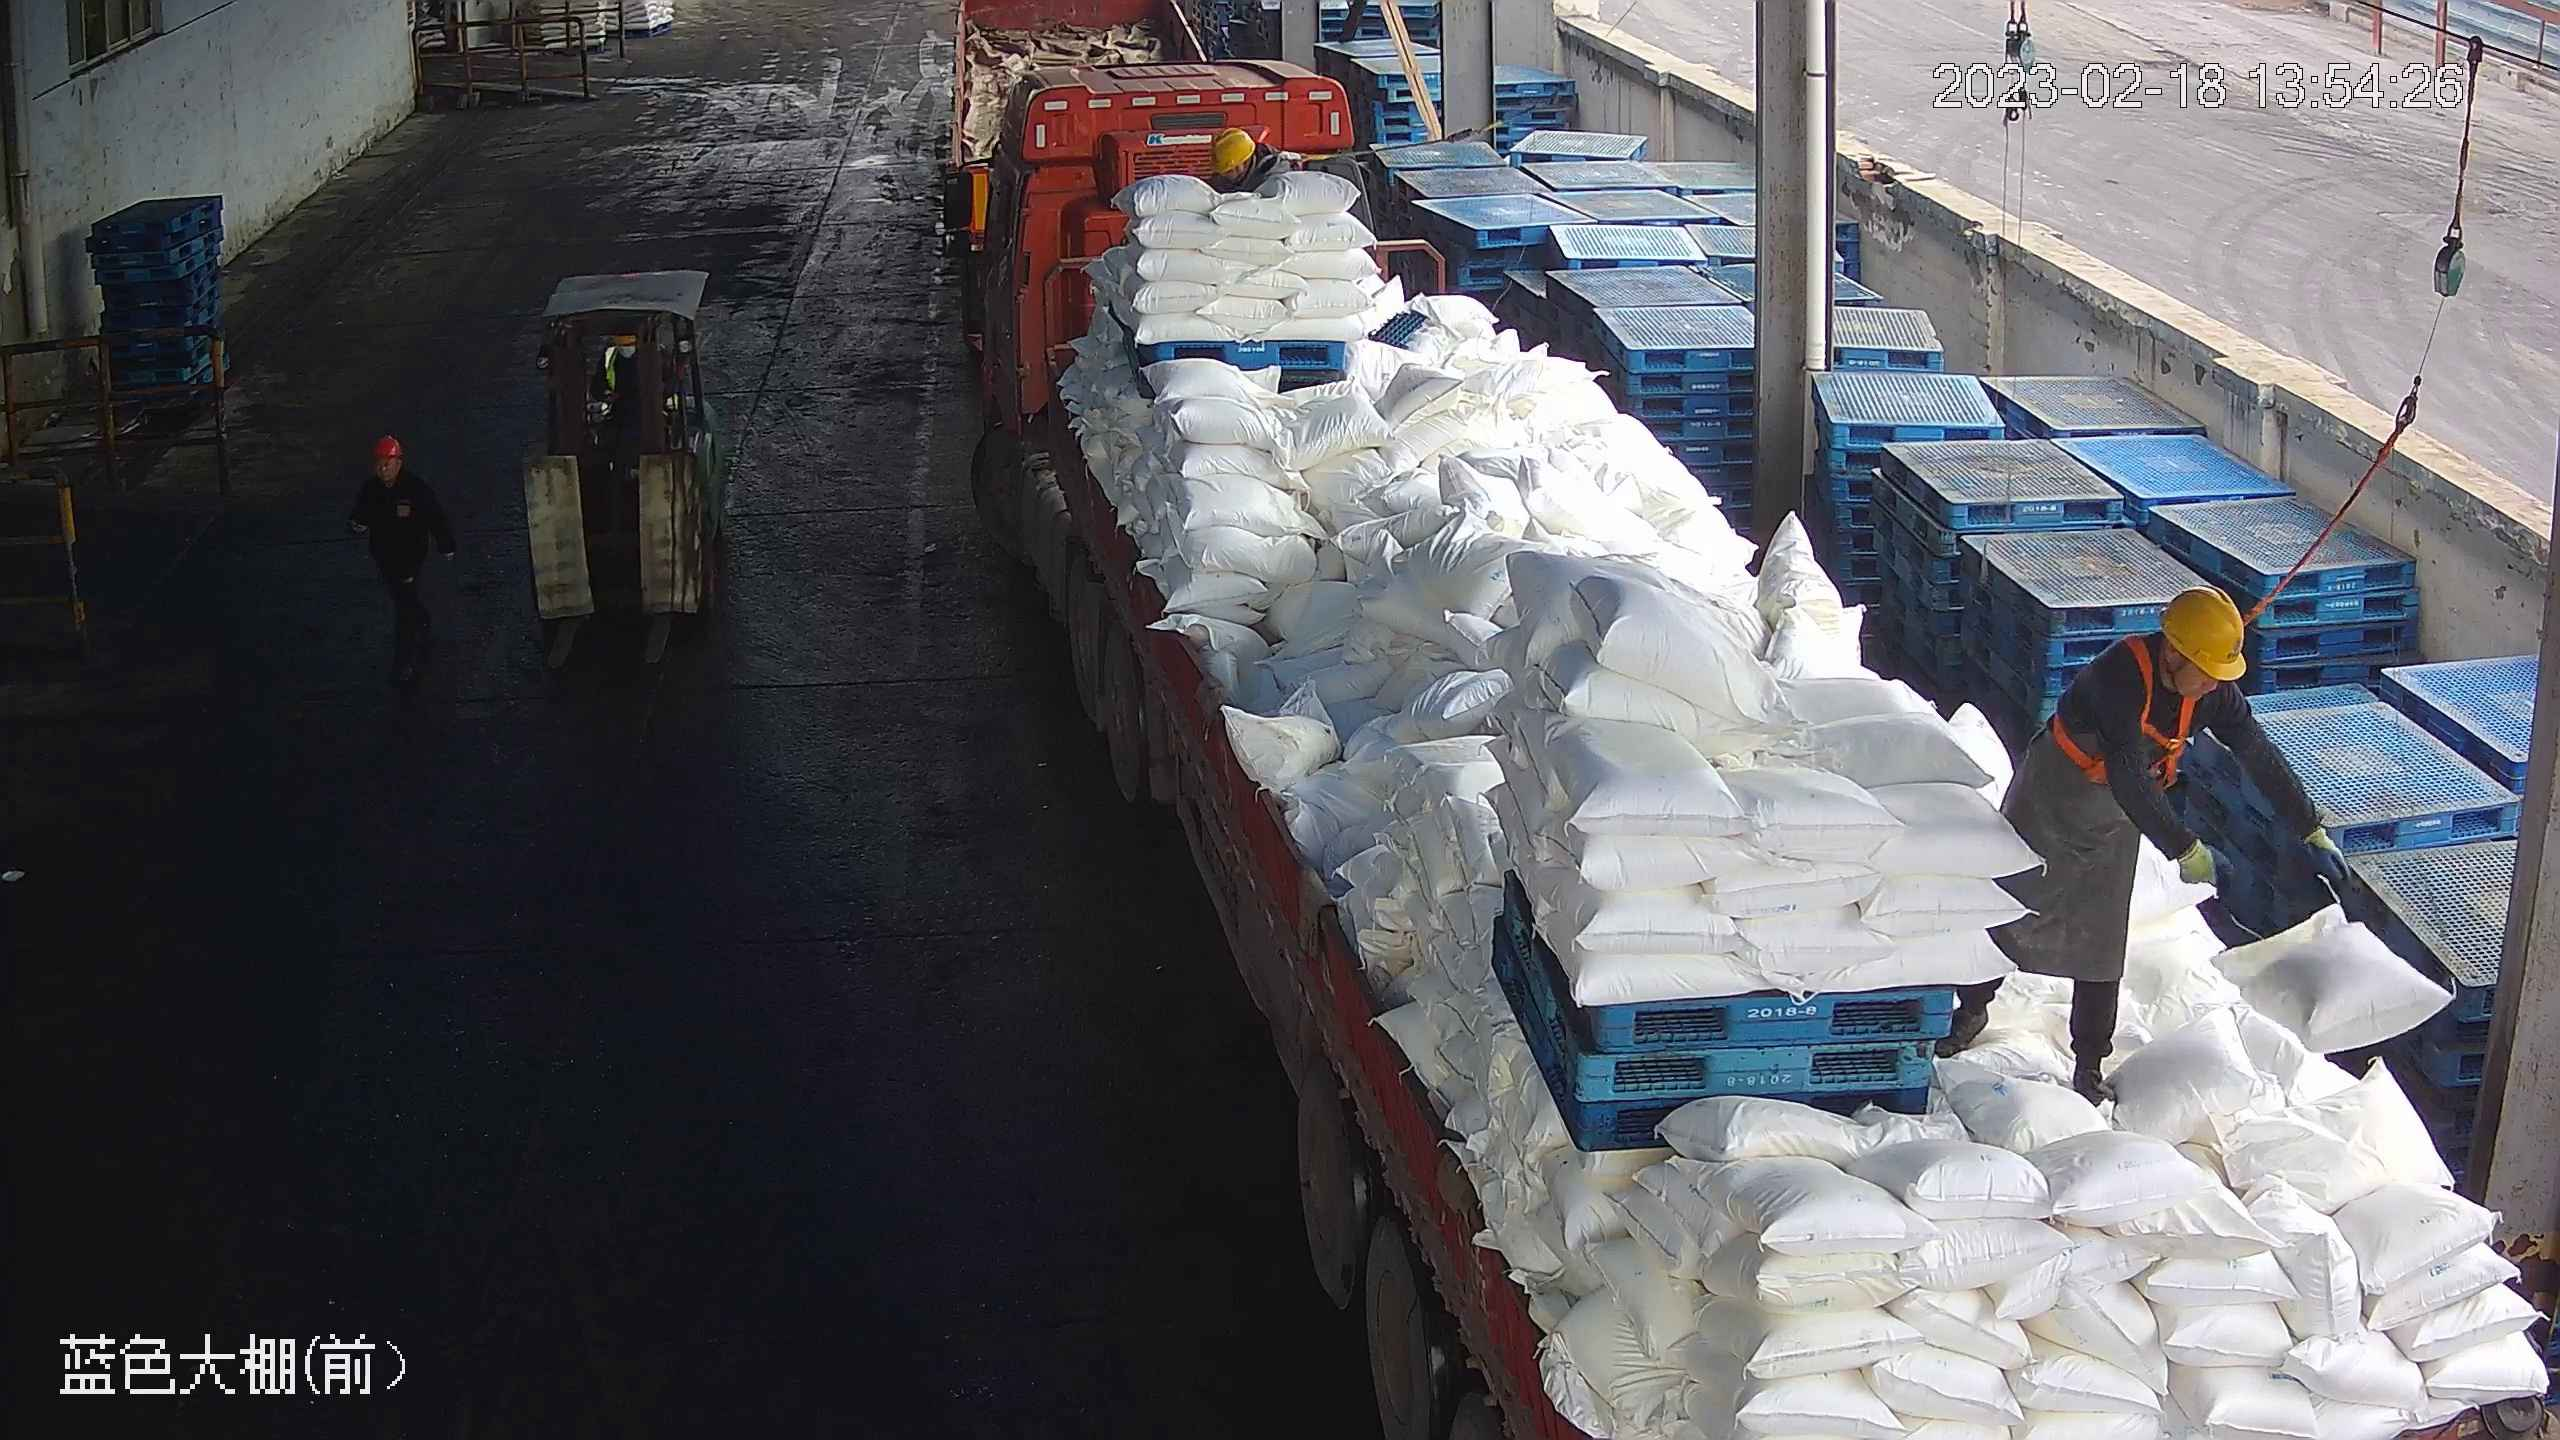belt: (2065, 632, 2216, 789)
head: (2071, 581, 2256, 742), (353, 432, 430, 502)
helmet: (2158, 583, 2247, 680), (1209, 126, 1258, 172), (370, 432, 403, 464)
people: (1933, 581, 2332, 1108), (350, 430, 459, 693)
truck: (931, 56, 2560, 1440)
